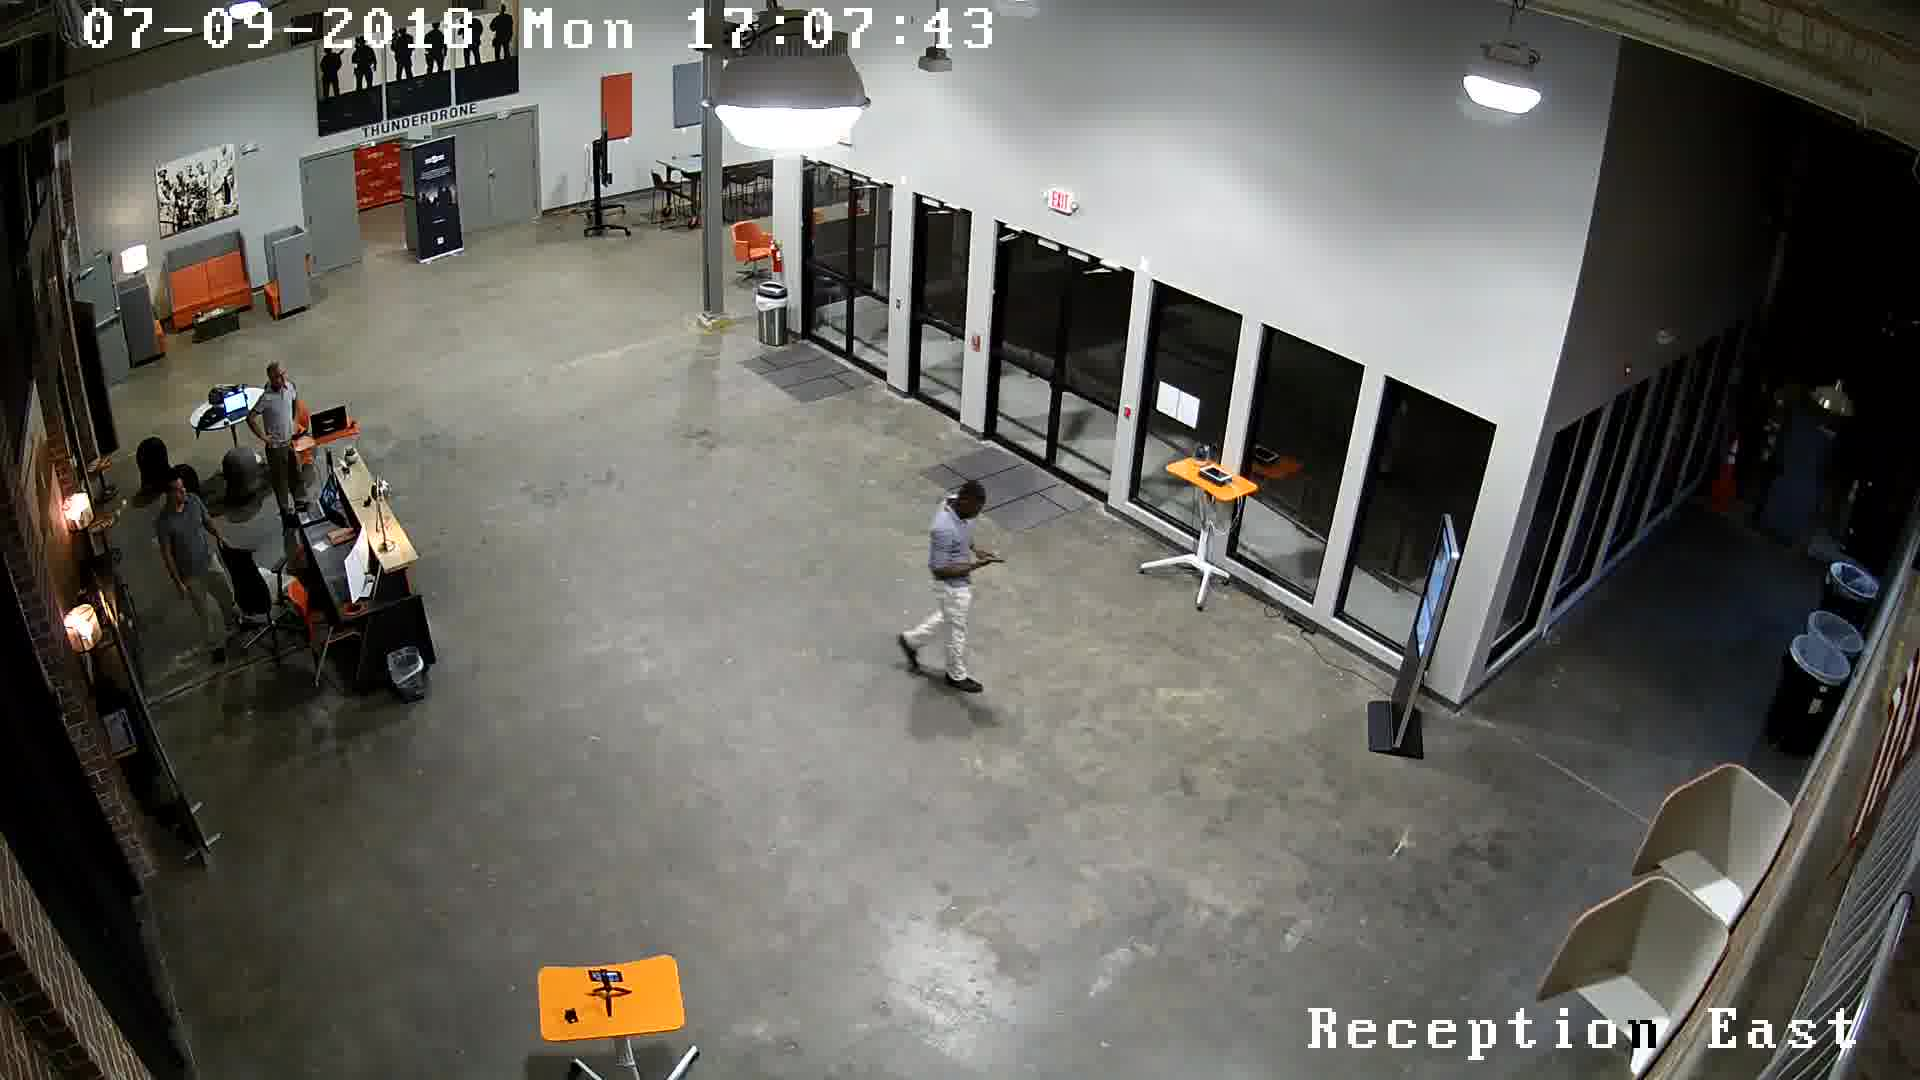pistol: (972, 534, 1007, 582)
